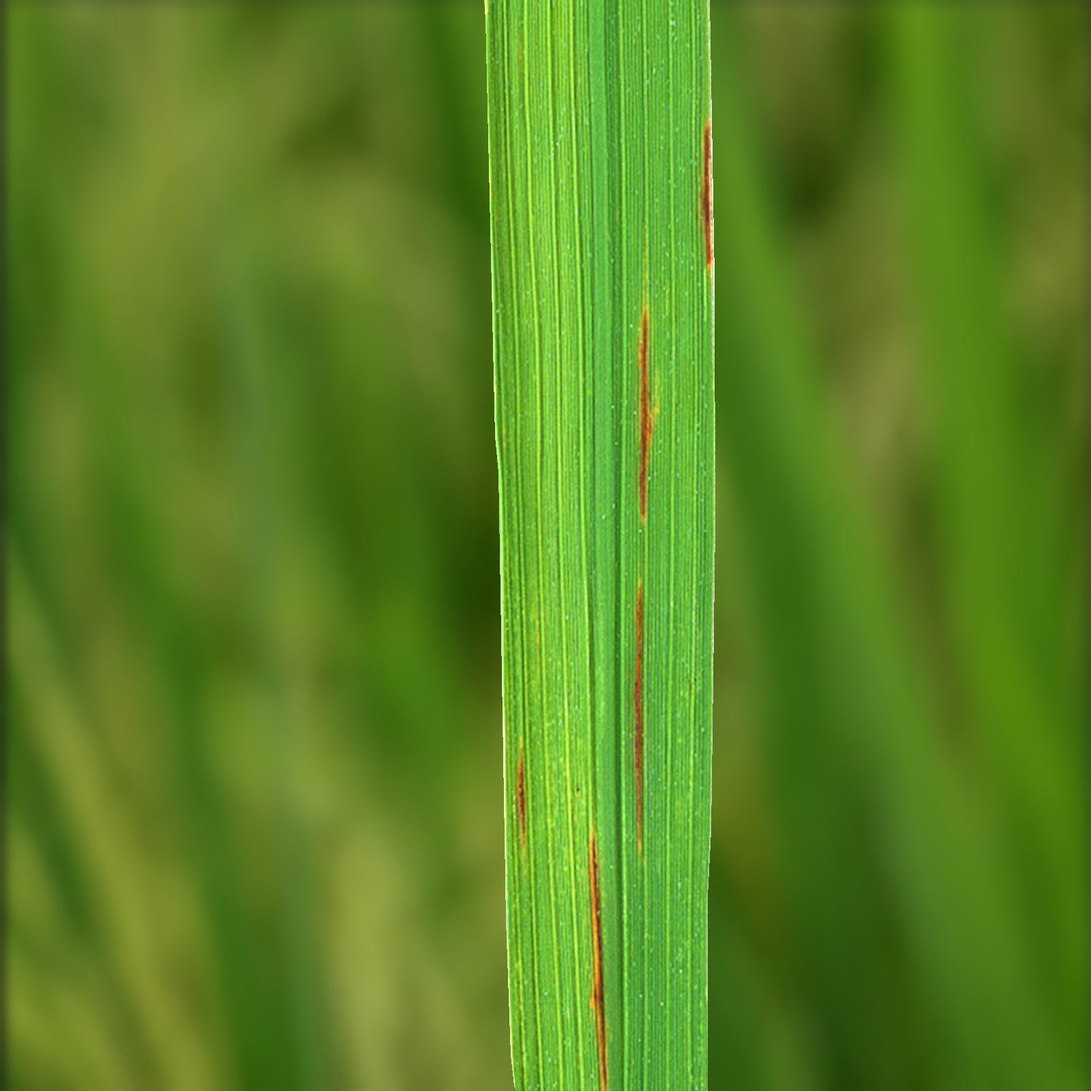LEAF: (484, 0, 715, 1090)
NBS: (588, 828, 608, 1090), (639, 306, 653, 521), (633, 580, 644, 852), (700, 121, 713, 269), (516, 741, 527, 848)
